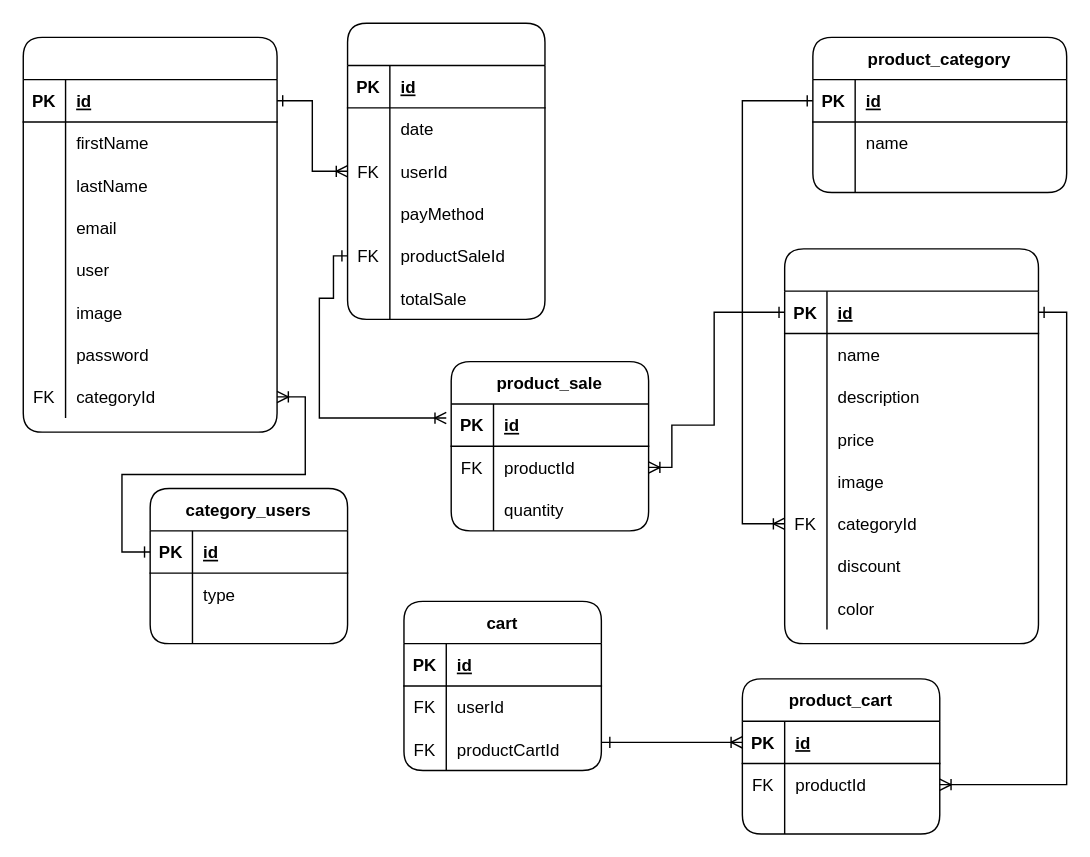
Image size: 1090x857. Some labels were removed from this diagram. The shapes that lost their labels are listed below. From the top down, each one's box as (x1, y1, x2, y2) in pixels, then its label:
(346, 22, 545, 319): sales
(22, 36, 277, 432): Users
(783, 247, 1038, 644): products
